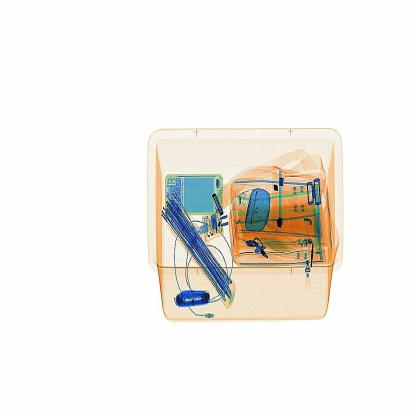scissors: (173, 289, 216, 311)
